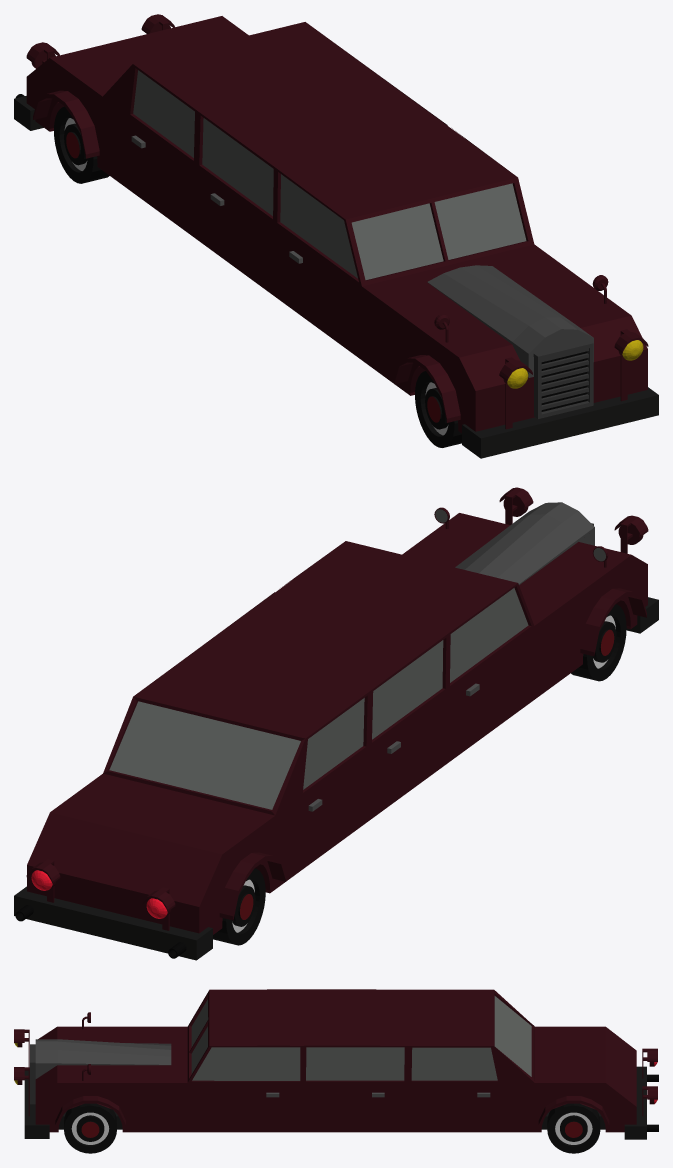
The model's file is car_limo.glb.
3 views of the same model, one above another, from view 1: azimuth 30°, elevation 25°; view 2: azimuth 150°, elevation 25°; view 3: azimuth 270°, elevation 25° (orthographic). The views are drawn at different scales.
Visible parts, largest first — view 1: body, bumperUnit, wheels, grill, wheelShields, headlights, taillights; view 2: body, bumperUnit, wheels, wheelShields, taillights, headlights; view 3: body, wheels, bumperUnit, wheelShields, headlights, taillights, grill.
Boxes of the visible parts, bbox=[...] form: body: bbox=[26, 16, 647, 433]; bumperUnit: bbox=[14, 96, 658, 458]; wheels: bbox=[54, 106, 461, 447]; grill: bbox=[533, 340, 593, 418]; wheelShields: bbox=[33, 90, 460, 422]; headlights: bbox=[499, 329, 648, 429]; taillights: bbox=[26, 14, 174, 68]; body: bbox=[27, 502, 647, 934]; bumperUnit: bbox=[14, 597, 658, 960]; wheels: bbox=[213, 604, 626, 945]; wheelShields: bbox=[219, 588, 646, 920]; taillights: bbox=[26, 859, 175, 930]; headlights: bbox=[499, 487, 648, 553]; body: bbox=[35, 989, 636, 1132]; wheels: bbox=[64, 1103, 600, 1153]; bumperUnit: bbox=[24, 1066, 646, 1139]; wheelShields: bbox=[55, 1096, 609, 1127]; headlights: bbox=[14, 1029, 29, 1116]; taillights: bbox=[642, 1048, 657, 1116]; grill: bbox=[30, 1044, 35, 1104].
Bounding box in the file's own units: 12.34 × 9.52 × 51.45.
